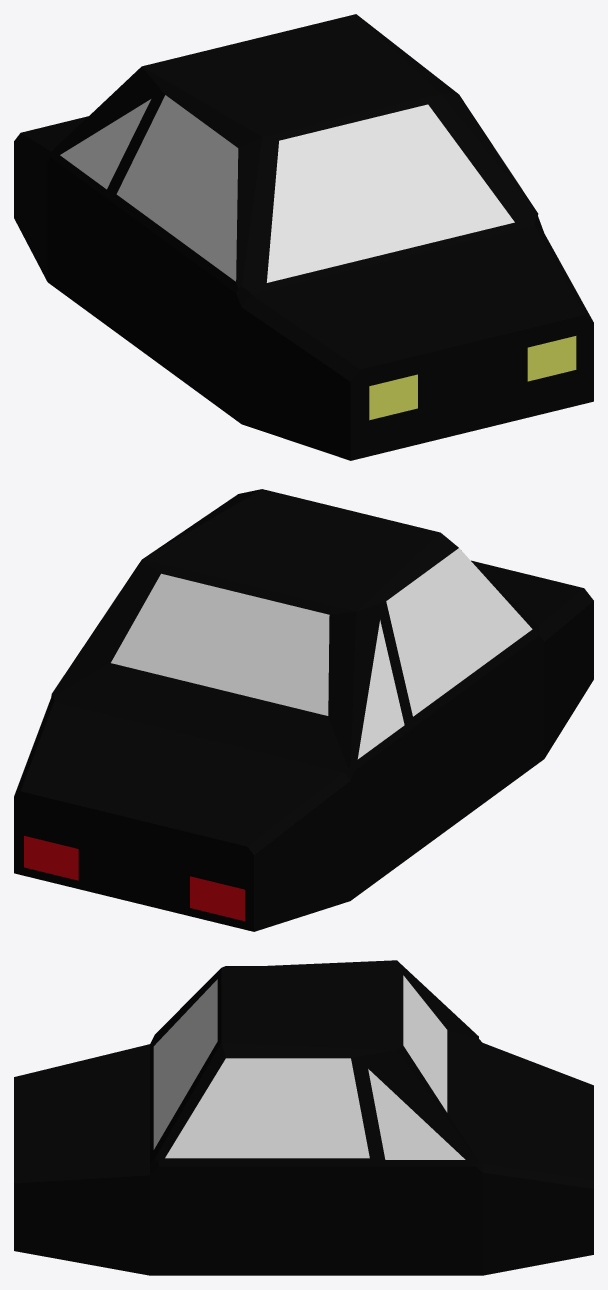
File: car.glb
3 views of the same model, one above another, from view 1: azimuth 30°, elevation 25°; view 2: azimuth 150°, elevation 25°; view 3: azimuth 270°, elevation 25° (orthographic). The views are drawn at different scales.
Parts seen in each view (by area): view 1: Cube; view 2: Cube; view 3: Cube.
Boxes of the visible parts, left/top/right/bottom form: Cube: left=14, top=14, right=593, bottom=460; Cube: left=14, top=489, right=593, bottom=931; Cube: left=14, top=960, right=593, bottom=1275.
Size of the model in its own units: 2 by 1.53 by 3.87.
